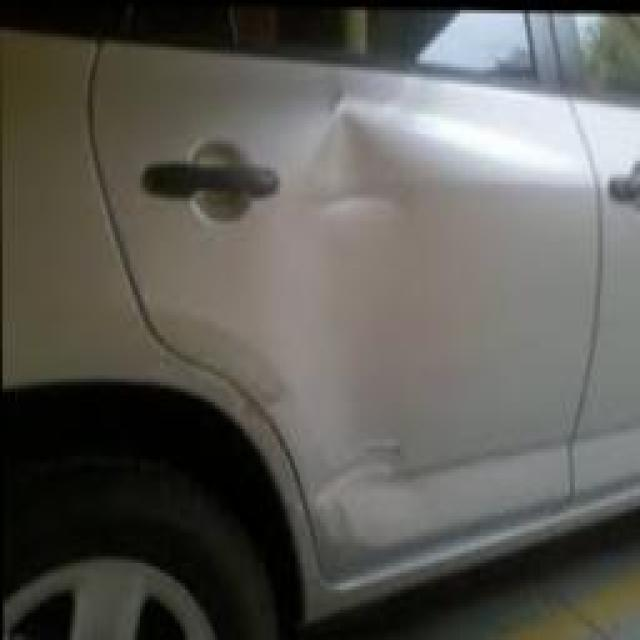Door: (270, 68, 438, 244)
